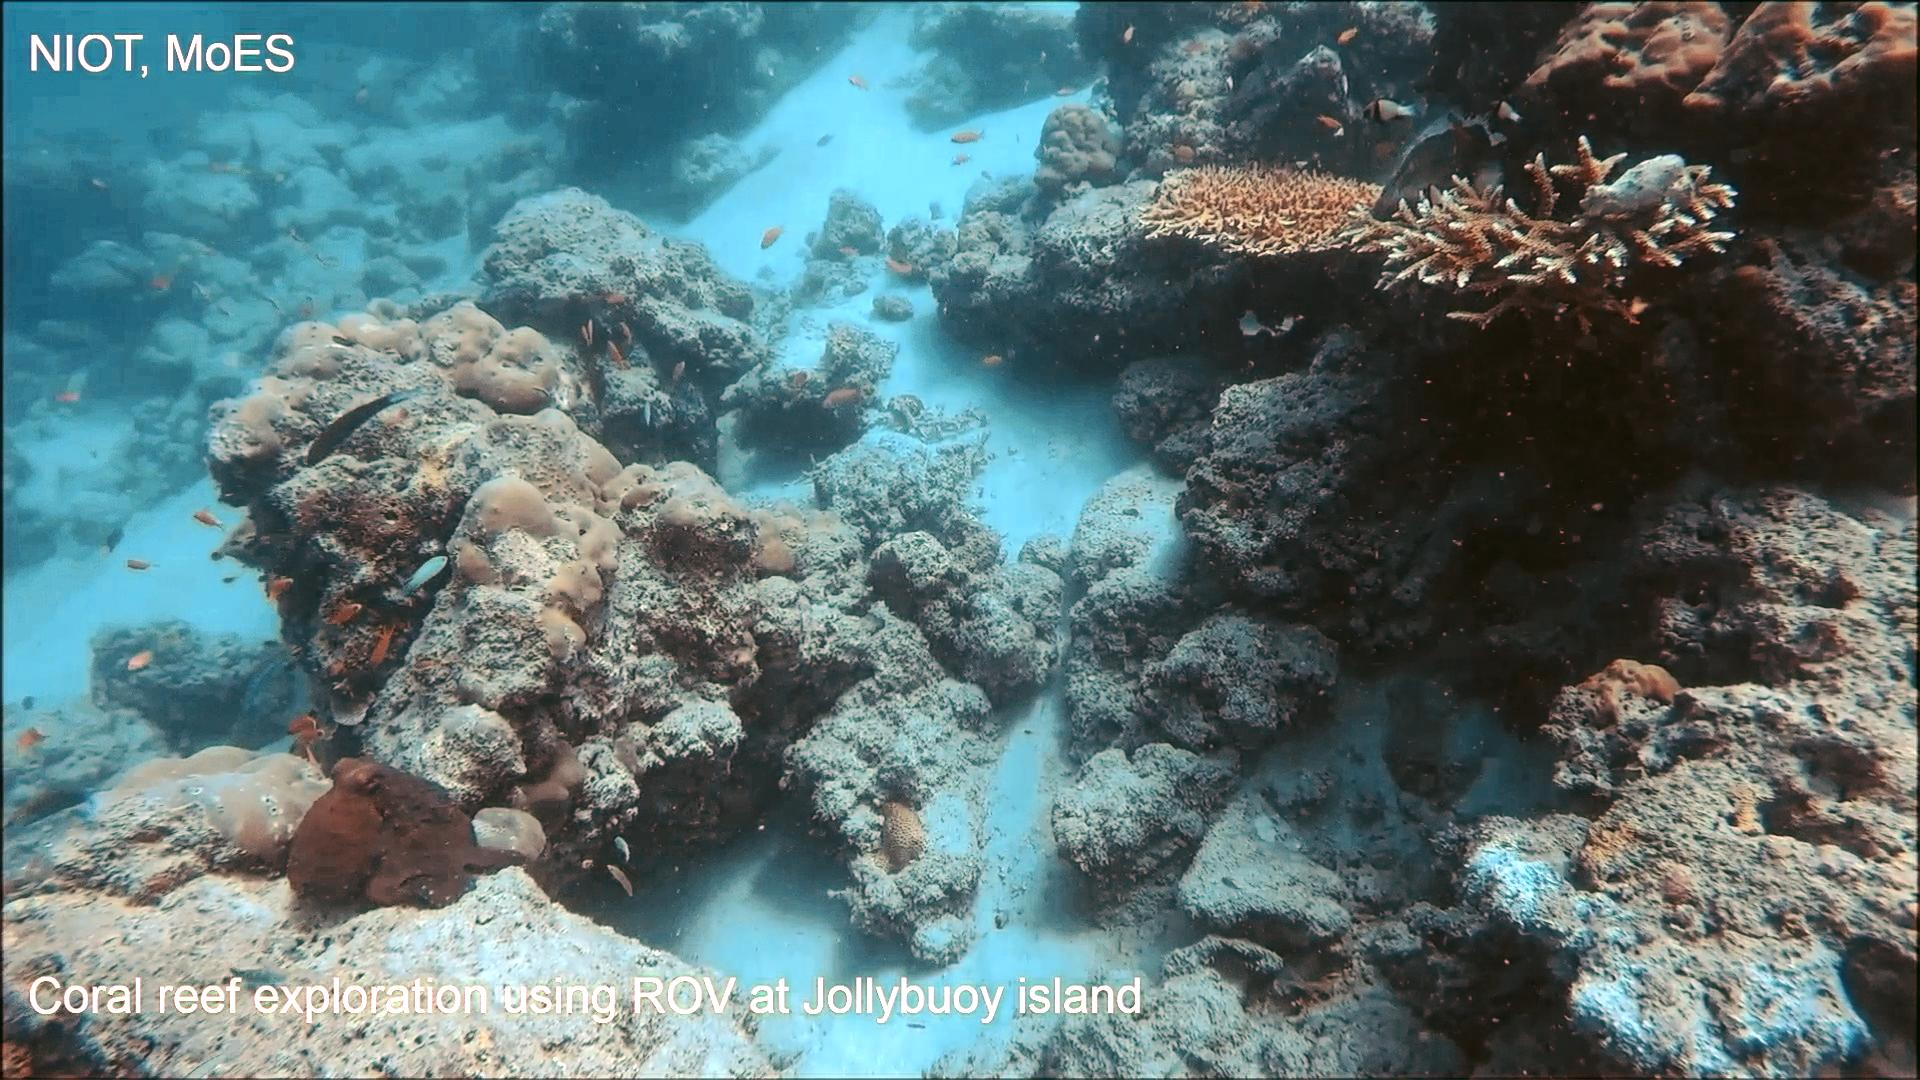Porites-Porites pukoensis: (377, 293, 667, 671)
